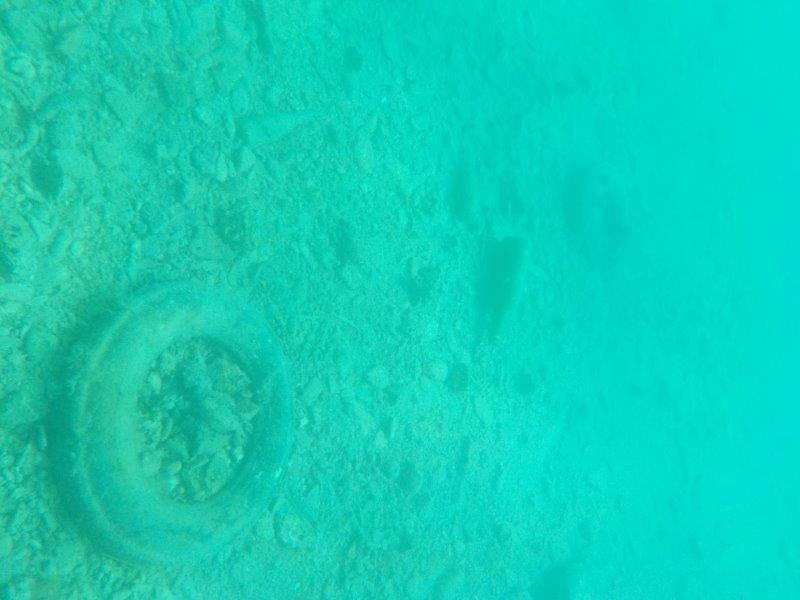bottle: (481, 229, 539, 356), (232, 90, 334, 161), (446, 130, 489, 235)
tire: (40, 274, 301, 577), (559, 155, 651, 287)
